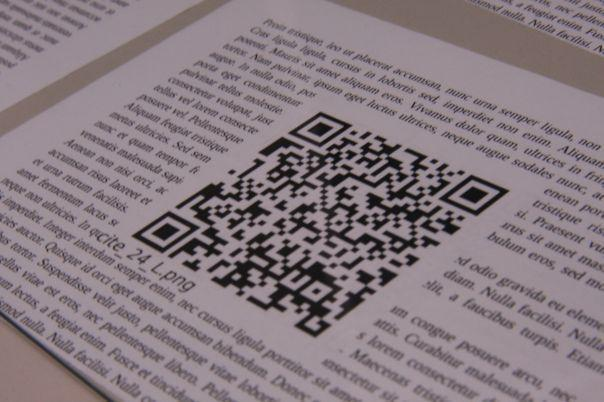qr_code: (131, 112, 511, 339)
